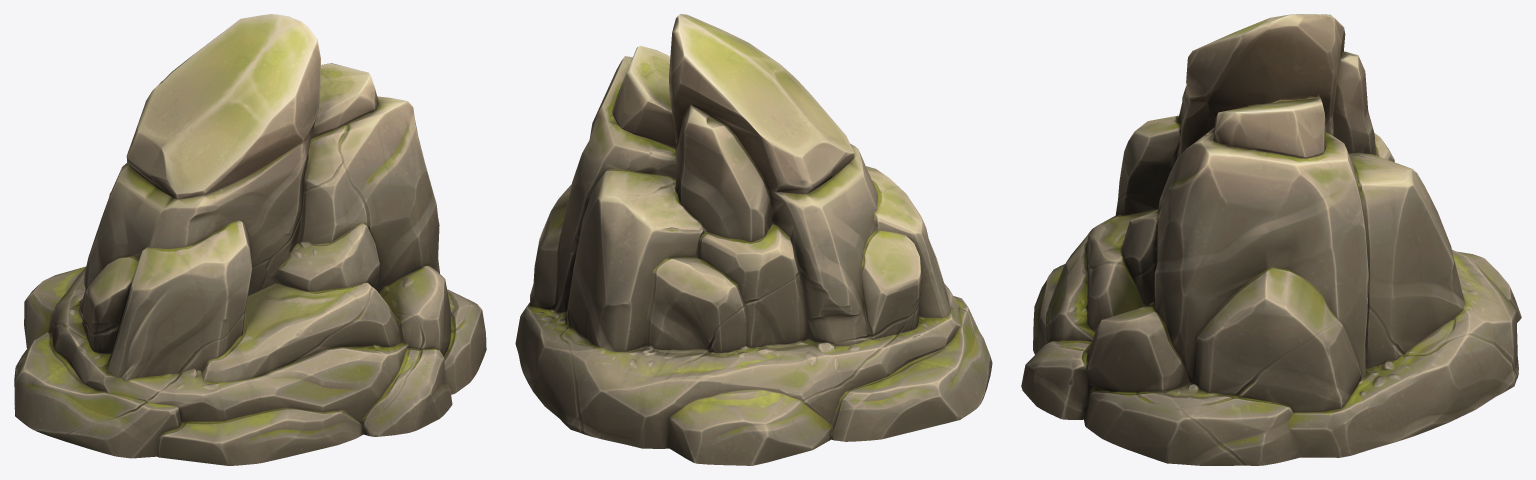
File: Stylized_Rock.fbx
3 renders of one model, left to right at view 1: azimuth 30°, elevation 25°; view 2: azimuth 150°, elevation 25°; view 3: azimuth 270°, elevation 25°, orthographic. The views are drawn at different scales.
Visible parts, largest first — view 1: Rock; view 2: Rock; view 3: Rock.
Part boxes in pixels (x1,y1,x2,y2): Rock: [14, 14, 486, 465]; Rock: [515, 14, 992, 465]; Rock: [1021, 14, 1521, 465].
Size of the model in its own units: 230 by 170 by 210.
